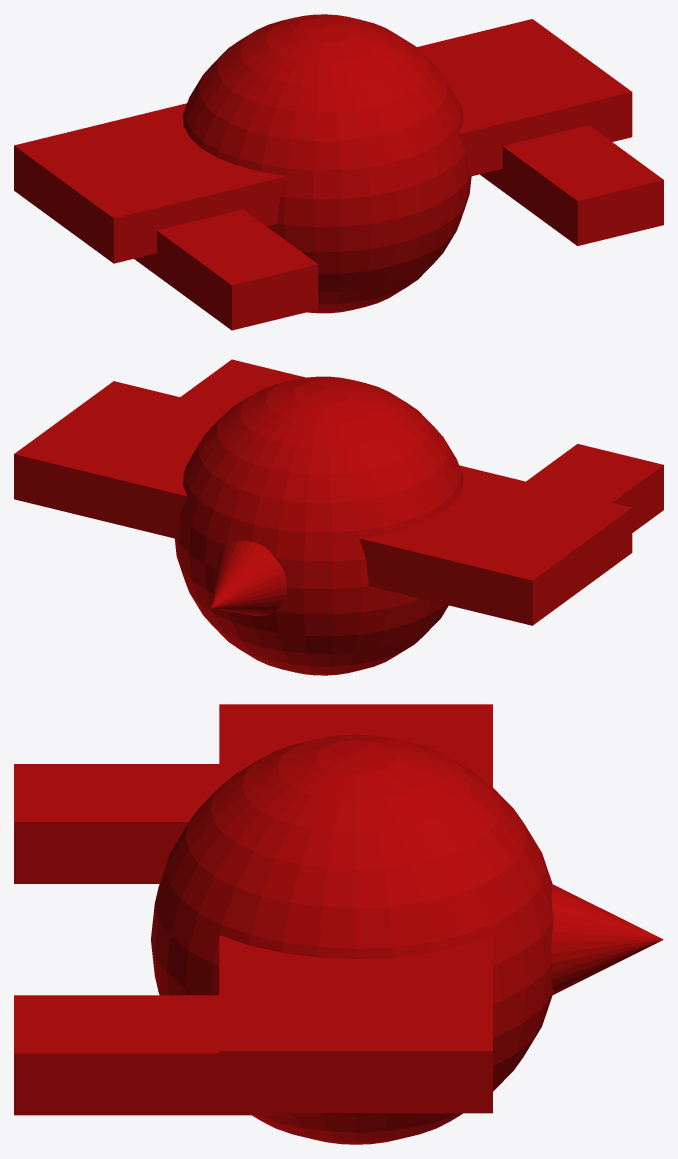
File: enemytypeCbehit.obj
3 renders of one model, top to bottom at view 1: azimuth 30°, elevation 25°; view 2: azimuth 150°, elevation 25°; view 3: azimuth 270°, elevation 25°, orthographic. The views are drawn at different scales.
Parts seen in each view (by area): view 1: 球體, 立方體_立方體.003, 立方體.001_立方體.004, 立方體.002_立方體.005, 立方體.004_立方體.007, 立方體.003_立方體.006; view 2: 球體, 立方體.001_立方體.004, 立方體_立方體.003, 立方體.002_立方體.005, 立方體.004_立方體.007, 圓錐體_圓錐體.001, 立方體.003_立方體.006; view 3: 球體, 立方體.001_立方體.004, 立方體.003_立方體.006, 立方體.004_立方體.007, 立方體_立方體.003, 圓錐體_圓錐體.001, 立方體.002_立方體.005.
Boxes of the visible parts, x1,y1,x2,y2 form: 球體: [183, 14, 471, 313]; 立方體_立方體.003: [14, 103, 286, 263]; 立方體.001_立方體.004: [417, 19, 632, 176]; 立方體.002_立方體.005: [14, 105, 285, 262]; 立方體.004_立方體.007: [134, 209, 318, 330]; 立方體.003_立方體.006: [480, 125, 663, 245]; 球體: [174, 376, 463, 675]; 立方體.001_立方體.004: [14, 381, 229, 538]; 立方體_立方體.003: [360, 465, 632, 625]; 立方體.002_立方體.005: [359, 495, 632, 625]; 立方體.004_立方體.007: [526, 444, 663, 532]; 圓錐體_圓錐體.001: [211, 540, 286, 616]; 立方體.003_立方體.006: [180, 359, 305, 409]; 球體: [151, 734, 553, 1144]; 立方體.001_立方體.004: [219, 935, 492, 1113]; 立方體.003_立方體.006: [14, 995, 287, 1115]; 立方體.004_立方體.007: [14, 764, 219, 883]; 立方體_立方體.003: [219, 704, 492, 786]; 圓錐體_圓錐體.001: [551, 884, 663, 994]; 立方體.002_立方體.005: [219, 704, 492, 785].
Bounding box in the file's own units: 12 × 6 × 9.5.
Materials: 7 (7 with a texture image).
